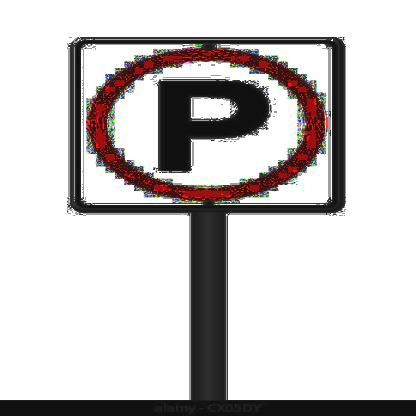Parking: (55, 38, 354, 227)
